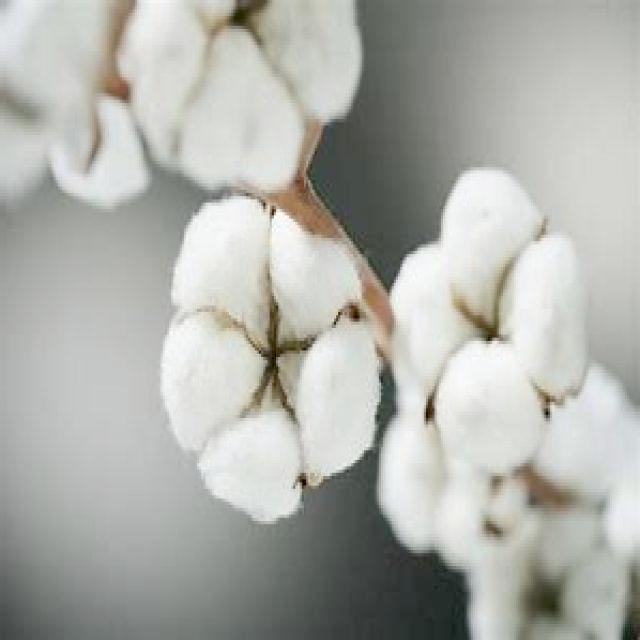Matured Cotton Boll: (154, 192, 382, 528), (384, 161, 592, 473), (119, 0, 361, 194), (455, 470, 635, 640)
